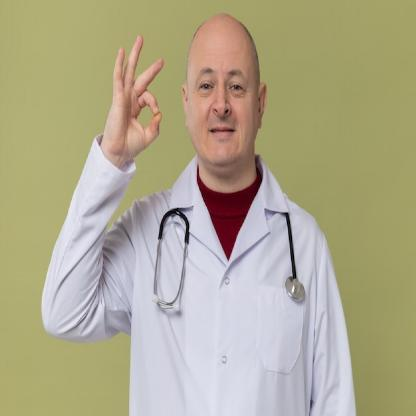ok: (106, 31, 165, 166)
